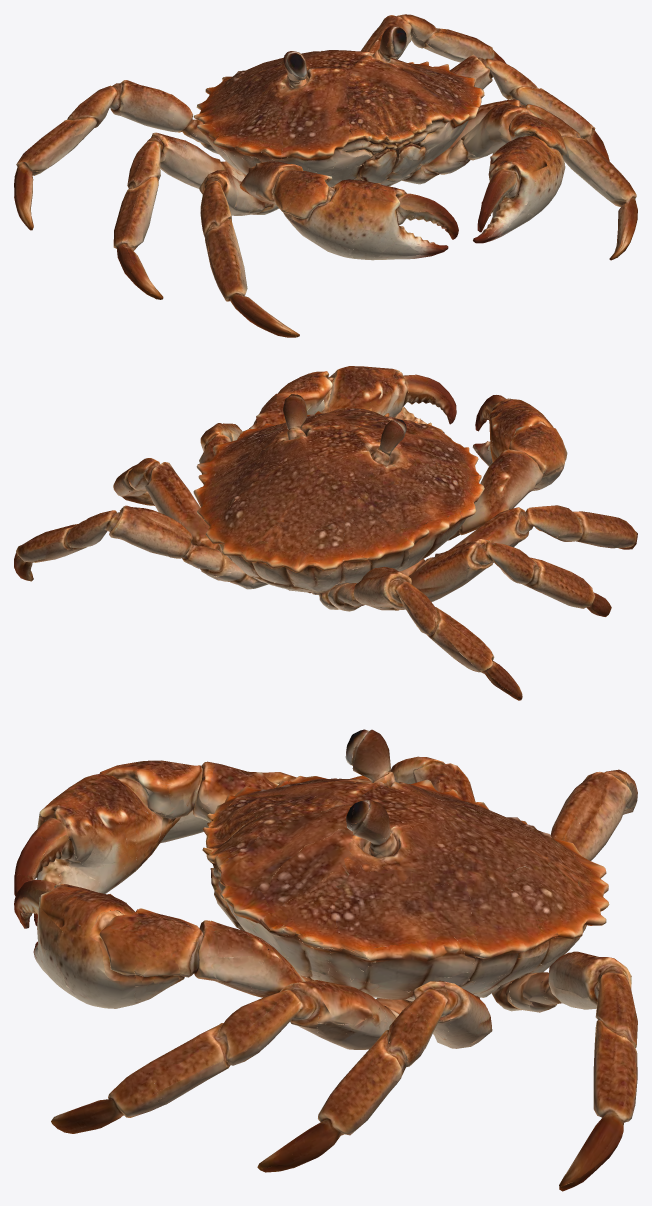
File: crab.glb
The picture shows the model from 3 angles, top to bottom: view 1: azimuth 30°, elevation 25°; view 2: azimuth 150°, elevation 25°; view 3: azimuth 270°, elevation 25°; orthographic projection. The views are drawn at different scales.
Visible parts, largest first — view 1: Mesh_0; view 2: Mesh_0; view 3: Mesh_0.
Part boxes in pixels (<box>): Mesh_0: <box>14,14,637,337</box>; Mesh_0: <box>14,366,637,700</box>; Mesh_0: <box>14,729,637,1191</box>.
Size of the model in its own units: 0.1441 by 0.0501 by 0.1101.
Materials: 1 (1 with a texture image).
